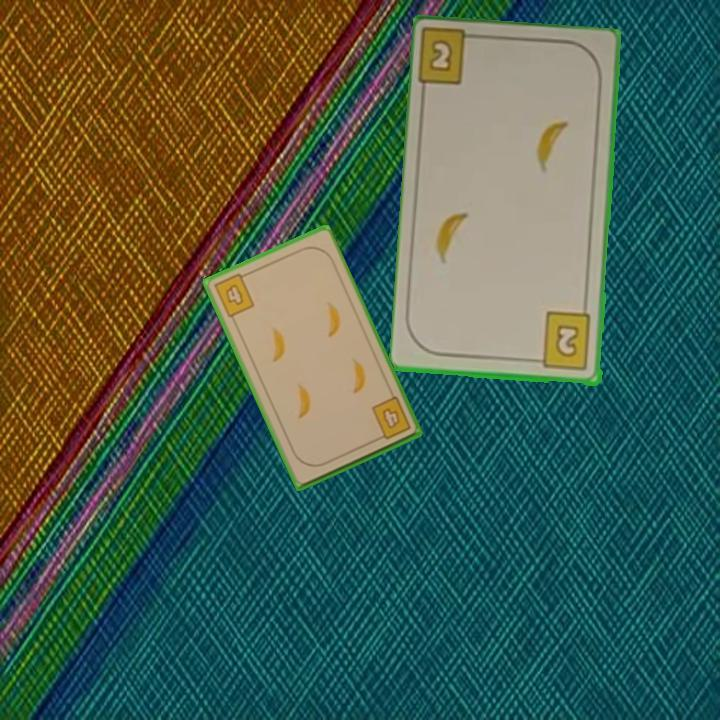2b: (417, 28, 486, 89), (530, 309, 594, 373)
4b: (210, 269, 257, 320), (368, 393, 413, 444)
